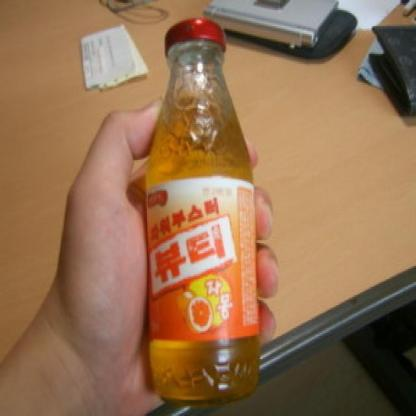Glass Bottle: (144, 18, 260, 408)
